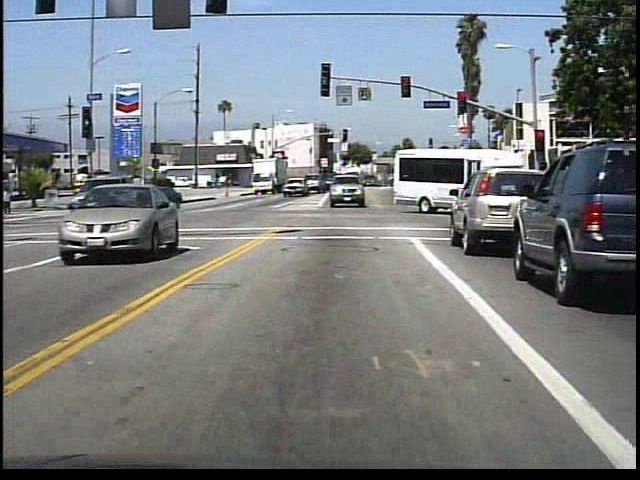person: (1, 183, 20, 219)
